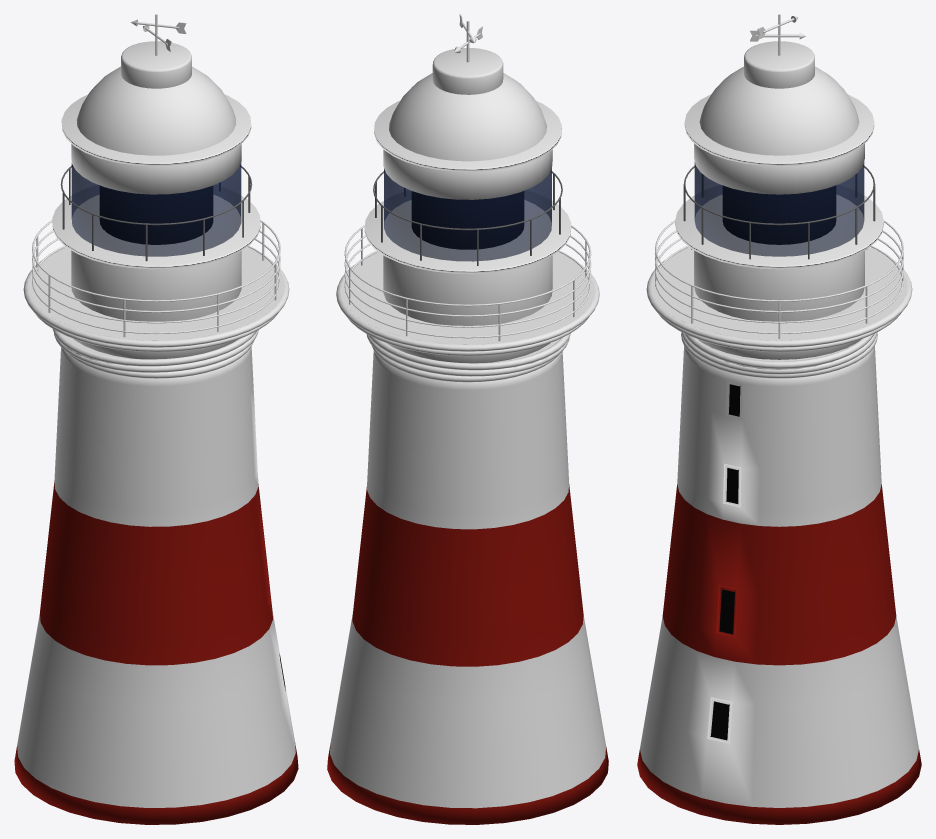
The model's file is Lighthouse_Smooth.fbx.
3 renders of one model, left to right at view 1: azimuth 30°, elevation 25°; view 2: azimuth 150°, elevation 25°; view 3: azimuth 270°, elevation 25°, orthographic.
Visible parts, largest first — view 1: Cone, Cylinder.005, Sphere, Cylinder.003, Cylinder.004, Cylinder.001, Cylinder.010, Cylinder.006, Cylinder.007, Cylinder.008, Torus.005, Torus.002 (+11 smaller); view 2: Cone, Cylinder.005, Sphere, Cylinder.003, Cylinder.004, Cylinder.001, Cylinder.010, Cylinder.006, Cylinder.007, Cylinder.008, Torus.005, Torus.002 (+9 smaller); view 3: Cone, Cylinder.005, Sphere, Cylinder.003, Cylinder.004, Cylinder.001, Cylinder.010, Cylinder.006, Cylinder.007, Cylinder.008, Torus.005, Torus.002 (+10 smaller).
Part boxes in pixels (<box>): Cone: <box>14,346,298,824</box>; Cylinder.005: <box>71,162,241,256</box>; Sphere: <box>77,66,235,155</box>; Cylinder.003: <box>71,250,241,321</box>; Cylinder.004: <box>52,185,260,269</box>; Cylinder.001: <box>28,248,284,340</box>; Cylinder.010: <box>100,185,212,244</box>; Cylinder.006: <box>71,144,241,194</box>; Cylinder.007: <box>61,94,251,166</box>; Cylinder.008: <box>121,41,191,88</box>; Torus.005: <box>23,247,289,347</box>; Torus.002: <box>52,329,256,366</box>; Cone: <box>327,351,608,824</box>; Cylinder.005: <box>384,168,551,261</box>; Sphere: <box>389,73,546,161</box>; Cylinder.003: <box>383,255,552,325</box>; Cylinder.004: <box>364,190,571,273</box>; Cylinder.001: <box>341,253,594,344</box>; Cylinder.010: <box>412,191,523,249</box>; Cylinder.006: <box>383,149,552,199</box>; Cylinder.007: <box>374,100,561,171</box>; Cylinder.008: <box>432,48,503,94</box>; Torus.005: <box>336,252,599,351</box>; Torus.002: <box>368,333,570,370</box>; Cone: <box>637,346,921,824</box>; Cylinder.005: <box>694,162,864,256</box>; Sphere: <box>699,66,859,155</box>; Cylinder.003: <box>694,250,864,321</box>; Cylinder.004: <box>675,185,883,269</box>; Cylinder.001: <box>651,248,907,340</box>; Cylinder.010: <box>723,185,835,244</box>; Cylinder.006: <box>694,143,864,194</box>; Cylinder.007: <box>684,94,874,166</box>; Cylinder.008: <box>744,41,814,88</box>; Torus.005: <box>646,247,912,347</box>; Torus.002: <box>684,333,874,368</box>.
Bounding box in the file's own units: 1200 × 3490 × 1200.
